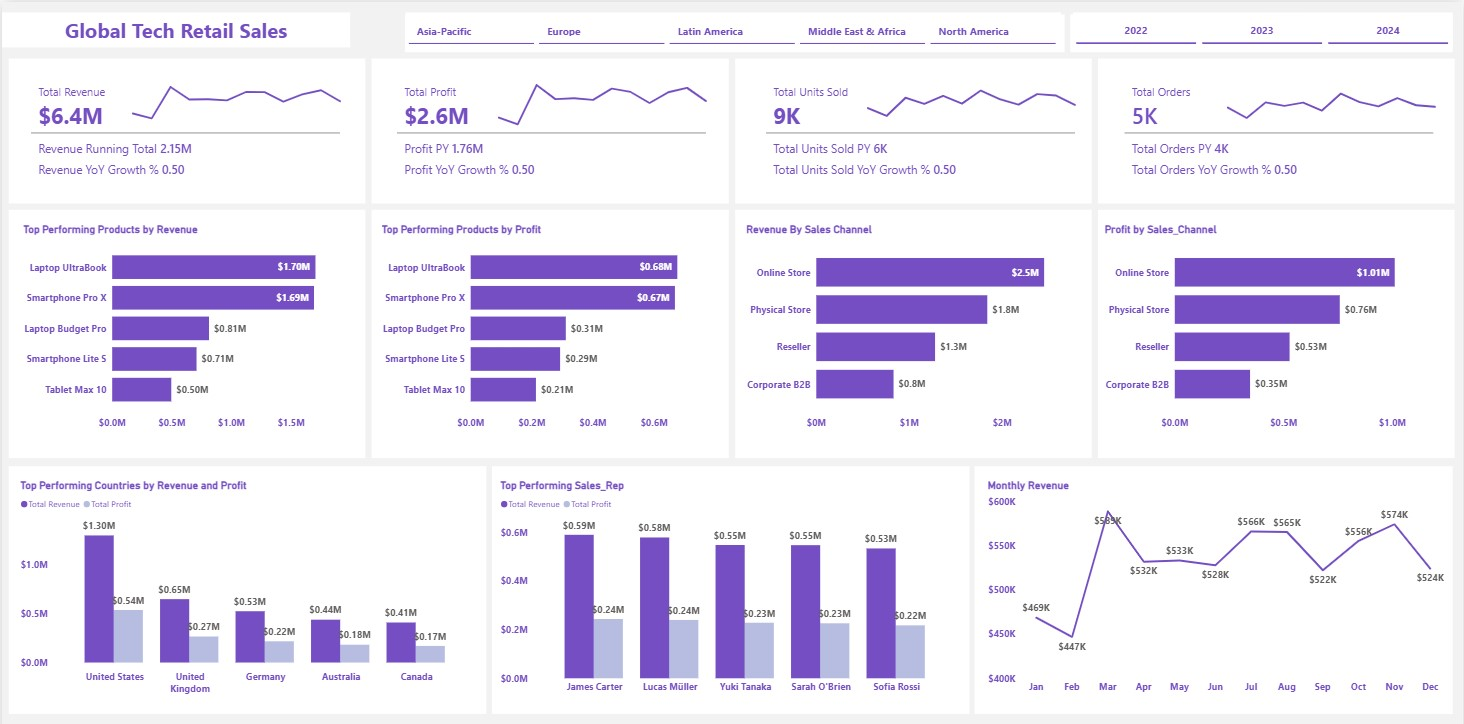

What the dashboard file says about the page in this screenshot:
{"tool":"powerbi","page":{"name":"Dashboard","canvas":[2320,1180],"ordinal":0},"visuals":[{"type":"cardVisual","title":"Total Revenue","fields":{"Data":["Revenue & Volume.Total Revenue"]},"box":[27.5,110,525,195],"z":0},{"type":"cardVisual","title":"Total Profit","fields":{"Data":["Revenue & Volume.Total Profit"]},"box":[610,110,525,195],"z":1000},{"type":"cardVisual","title":"Total Units Sold","fields":{"Data":["Revenue & Volume.Total Units Sold"]},"box":[1195,110,525,195],"z":2000},{"type":"cardVisual","title":"Profit Margin %","fields":{"Data":["Revenue & Volume.Total Orders"]},"box":[1765,110,525,195],"z":3000},{"type":"clusteredBarChart","title":"Revenue By Sales Channel","fields":{"Category":["Sales_Channel.Sales_Channel"],"Y":["Revenue & Volume.Total Revenue"]},"box":[1175,350,545,337.5],"z":4000},{"type":"clusteredBarChart","title":"Profit by Sales_Channel","fields":{"Category":["Sales_Channel.Sales_Channel"],"Y":["Revenue & Volume.Total Profit"]},"box":[1745,350,545,337.5],"z":5000},{"type":"clusteredBarChart","title":"Top Performing Products by Revenue","fields":{"Category":["Product_Name.Product_Name"],"Y":["Revenue & Volume.Total Revenue"]},"box":[27.5,350,547.5,337.5],"z":6000},{"type":"clusteredBarChart","title":"Top Performing Products by Profit","fields":{"Category":["Product_Name.Product_Name"],"Y":["Revenue & Volume.Total Profit"]},"box":[597.5,350,547.5,337.5],"z":7000},{"type":"clusteredColumnChart","title":"Top Performing Countries by Revenue and Profit","fields":{"Y":["Revenue & Volume.Total Revenue","Revenue & Volume.Total Profit"],"Category":["Country.Country"]},"box":[23.3,756.7,735,350],"z":8000},{"type":"advancedSlicerVisual","fields":{"Values":["Dates.Year"]},"box":[1700,17.5,602.5,55],"z":9000},{"type":"advancedSlicerVisual","fields":{"Values":["Region.Region"]},"box":[640,17.5,1040,55],"z":10000},{"type":"lineChart","title":"Monthly Revenue","fields":{"Category":["Dates.Short_Month"],"Y":["Revenue & Volume.Total Revenue"]},"box":[1560,757.5,735,350],"z":11000},{"type":"textbox","box":[0,17.5,552.5,55],"z":12000},{"type":"clusteredColumnChart","title":"Top Performing Sales_Rep","fields":{"Category":["Sales_Rep.Sales_Rep"],"Y":["Revenue & Volume.Total Revenue","Revenue & Volume.Total Profit"]},"box":[785,757.5,735,350],"z":13000},{"type":"lineChart","fields":{"Category":["Dates.Short_Month"],"Y":["Revenue & Volume.Total Profit"]},"box":[772.5,117.5,362.5,90],"z":14000},{"type":"lineChart","fields":{"Category":["Dates.Short_Month"],"Y":["Revenue & Volume.Total Revenue"]},"box":[190,117.5,362.5,90],"z":15000},{"type":"lineChart","fields":{"Category":["Dates.Short_Month"],"Y":["Revenue & Volume.Total Units Sold"]},"box":[1357.5,117.5,362.5,90],"z":16000},{"type":"lineChart","fields":{"Category":["Dates.Short_Month"],"Y":["Revenue & Volume.Total Orders"]},"box":[1927.5,117.5,362.5,90],"z":17000}]}

Visuals, with their boxes in screenshot pixels (x1, y1, x2, y2), scaled from the page's 2320x1180 canvas onto the 1464x724 screenshot:
"Total Revenue" cardVisual: 17 67 349 187
"Total Profit" cardVisual: 385 67 716 187
"Total Units Sold" cardVisual: 754 67 1085 187
"Profit Margin %" cardVisual: 1114 67 1445 187
"Revenue By Sales Channel" clusteredBarChart: 741 215 1085 422
"Profit by Sales_Channel" clusteredBarChart: 1101 215 1445 422
"Top Performing Products by Revenue" clusteredBarChart: 17 215 363 422
"Top Performing Products by Profit" clusteredBarChart: 377 215 723 422
"Top Performing Countries by Revenue and Profit" clusteredColumnChart: 15 464 479 679
advancedSlicerVisual - Dates.Year: 1073 11 1453 44
advancedSlicerVisual - Region.Region: 404 11 1060 44
"Monthly Revenue" lineChart: 984 465 1448 680
textbox: 0 11 349 44
"Top Performing Sales_Rep" clusteredColumnChart: 495 465 959 680
lineChart - Dates.Short_Month x Revenue & Volume.Total Profit: 487 72 716 127
lineChart - Dates.Short_Month x Revenue & Volume.Total Revenue: 120 72 349 127
lineChart - Dates.Short_Month x Revenue & Volume.Total Units Sold: 857 72 1085 127
lineChart - Dates.Short_Month x Revenue & Volume.Total Orders: 1216 72 1445 127
